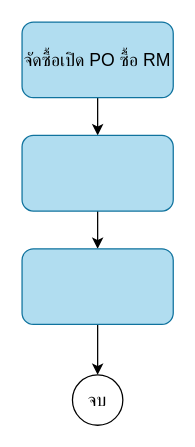
The diagram is 195 pixels wide and 447 high, and some of its shapes have lost their labels. Here are the shapes that lost their labels. From the top down, the centre of each, then its label:
(97,172): PD (โรงคัด) คัด รับเข้า พร้อมคีย์ข้อมูล
(97,286): PD (ตัดแต่ง) เบิกออกไปใช้ผลิตใหม่ พร้อมคีย์ข้อมูล
